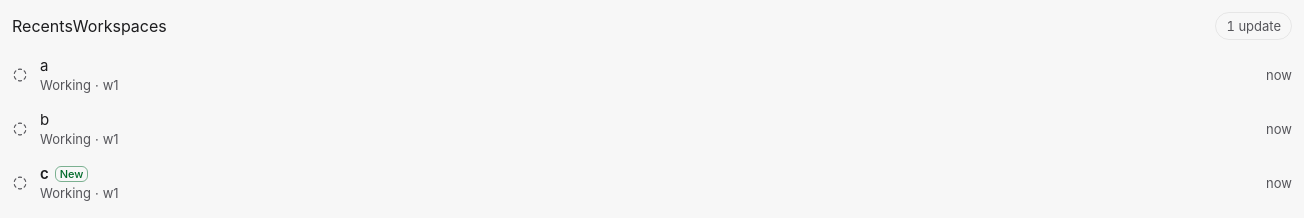
Test: leaves a session that turns New in its place, and reorders on N updates
The image size is (1304, 218).
Check: the text "New" is shown, box x1=55 y1=166 x2=88 y2=182
Click the button "1 update" at point(1254, 26), box x1=1215 y1=12 x2=1292 y2=40
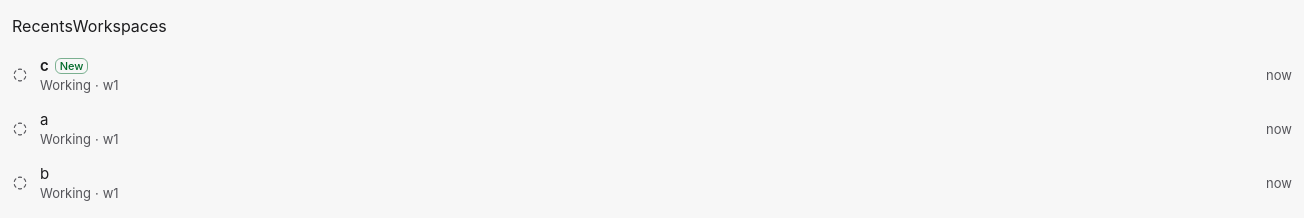
Check: the button "update" is gone
